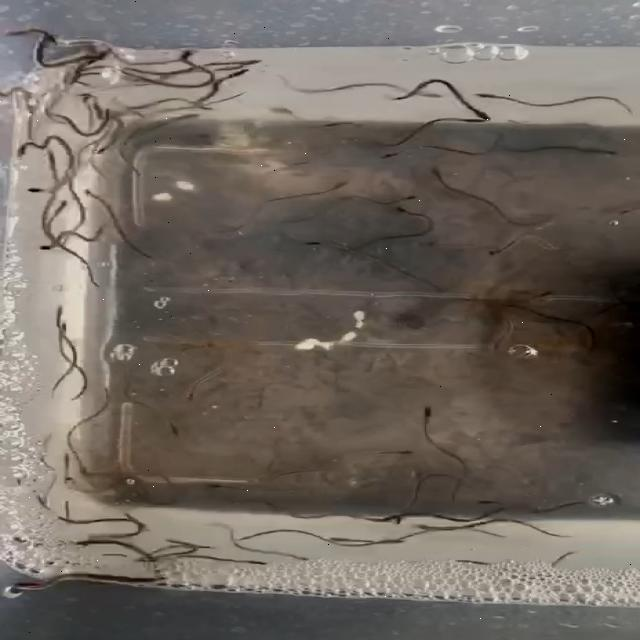inactive_glass_eel: (6, 582, 68, 592), (396, 86, 440, 99), (22, 183, 59, 198), (31, 29, 55, 51), (95, 136, 119, 158), (176, 46, 202, 66), (471, 89, 508, 102), (490, 243, 520, 258), (220, 66, 248, 82), (455, 112, 489, 125), (390, 193, 424, 206), (322, 118, 358, 130), (82, 46, 105, 64), (232, 56, 273, 66), (299, 238, 335, 249), (416, 403, 438, 421), (468, 104, 492, 120), (48, 306, 72, 322), (380, 149, 407, 163), (432, 165, 453, 183), (328, 179, 354, 193), (43, 144, 63, 162), (589, 146, 623, 156), (56, 322, 76, 339), (10, 140, 28, 158), (79, 91, 101, 105), (54, 197, 72, 214), (392, 444, 417, 456), (168, 418, 184, 436), (180, 389, 202, 402), (80, 187, 100, 201), (386, 512, 406, 526), (376, 538, 408, 546), (614, 203, 636, 214), (39, 242, 63, 252), (474, 498, 504, 506), (326, 534, 354, 542), (394, 206, 416, 216), (287, 552, 309, 562), (536, 287, 552, 300), (247, 558, 269, 566), (207, 482, 235, 488)
